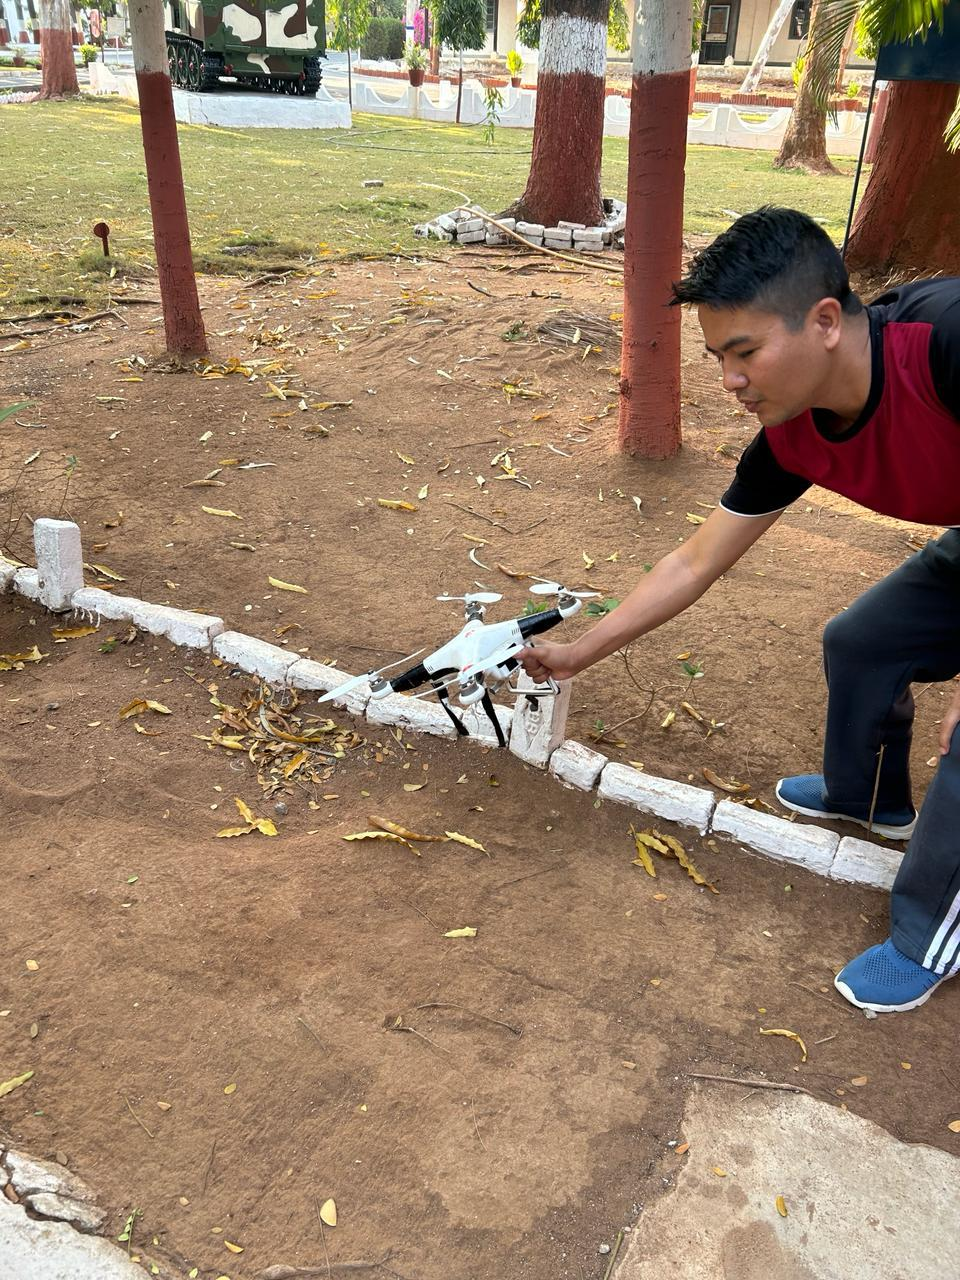drone: (316, 581, 602, 747)
